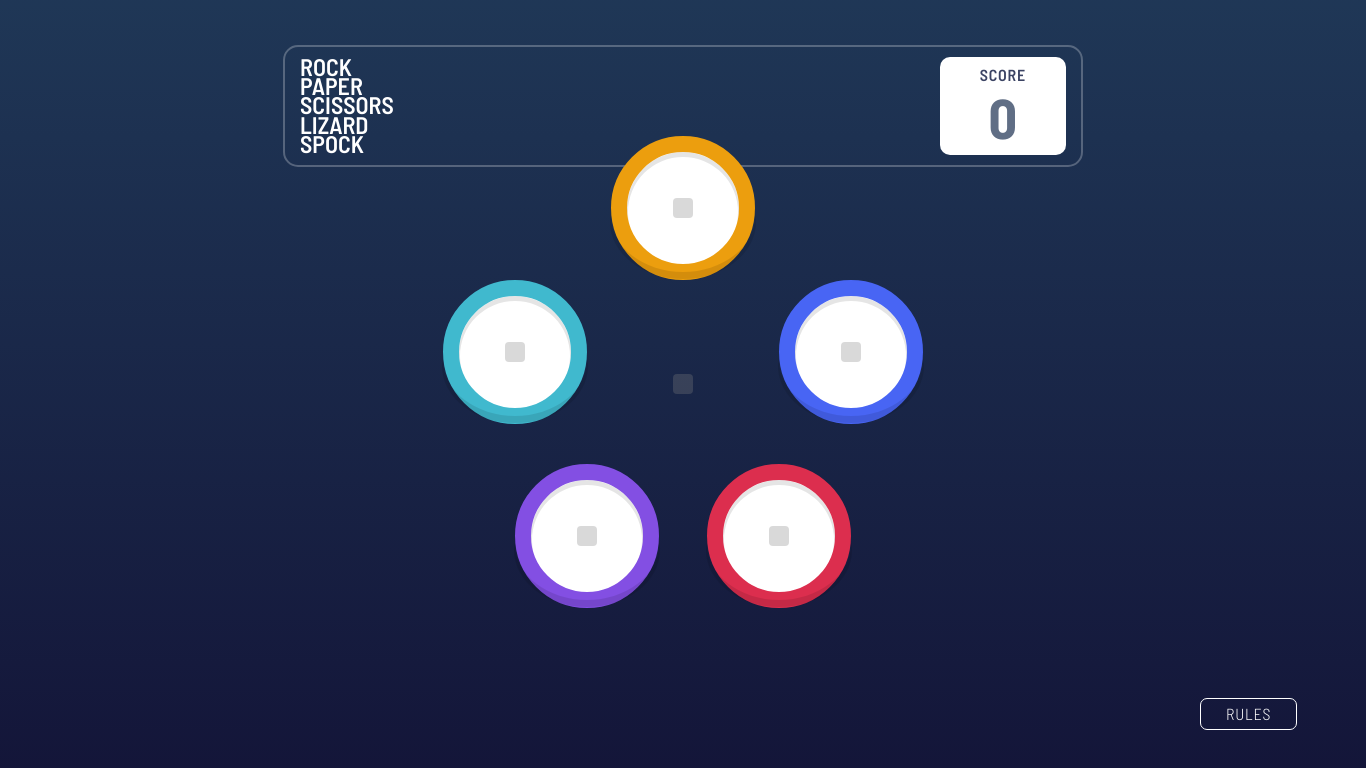
Test case: Is the Game logic still works? › Play the game with Paper
This screenshot has width=1366, height=768.
What coordinates should you click on to do the following:
click the 3rd button with class "controls-btn"
I would click on:
 (851, 352)
Its box is [779,280,923,424].
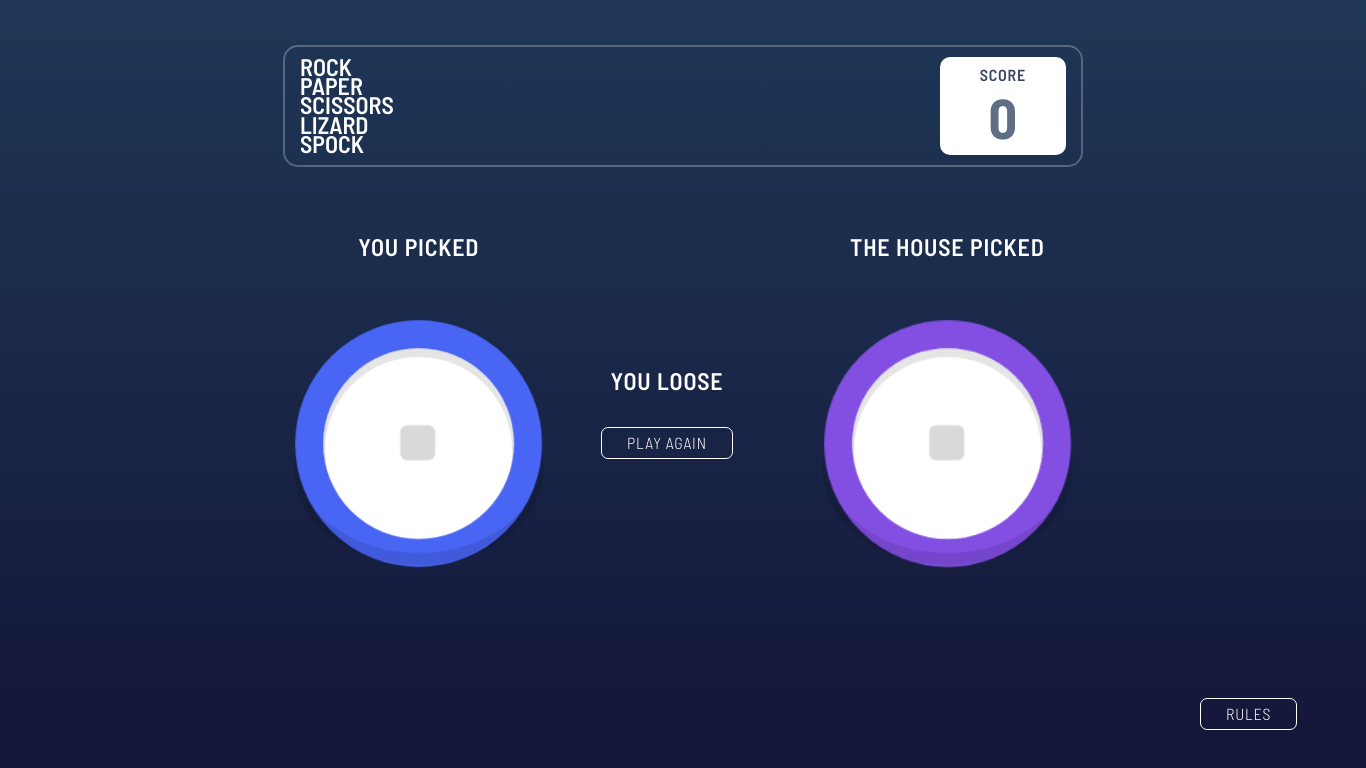
Expected: the element with class "result-decision" is shown, [601,346,733,459]
Expected: the element with class "game-results-board" is shown, [296,232,1071,567]
Expected: the heading " You Loose " is shown, [611,366,724,395]
